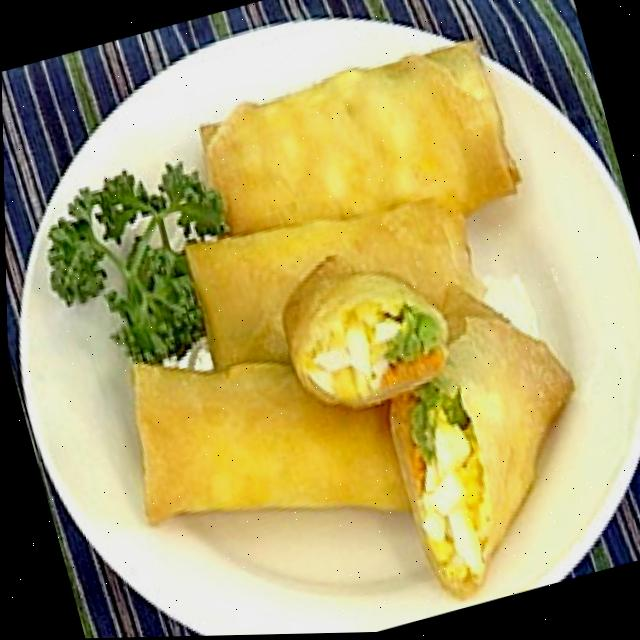鸡蛋料理: (28, 13, 631, 640)
